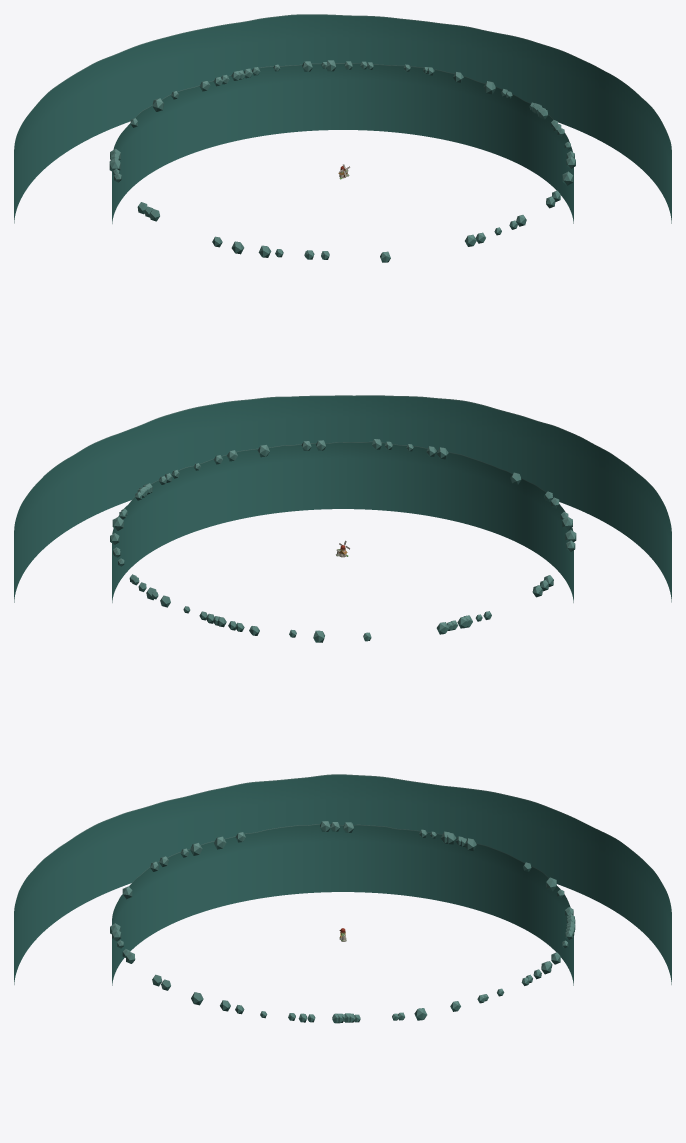
The model's file is first-steps.glb.
3 views of the same model, one above another, from view 1: azimuth 30°, elevation 25°; view 2: azimuth 150°, elevation 25°; view 3: azimuth 270°, elevation 25° (orthographic).
Parts seen in each view (by area): view 1: horizon-far, horizon-near; view 2: horizon-far, horizon-near; view 3: horizon-far, horizon-near.
Boxes of the visible parts, x1,y1,x2,y2 form: horizon-far: (14,14,671,223); horizon-near: (109,60,575,262); horizon-far: (14,395,671,602); horizon-near: (110,439,576,642); horizon-far: (14,774,671,984); horizon-near: (110,821,575,1023).
Size of the model in its own units: 470 by 60.47 by 470.
